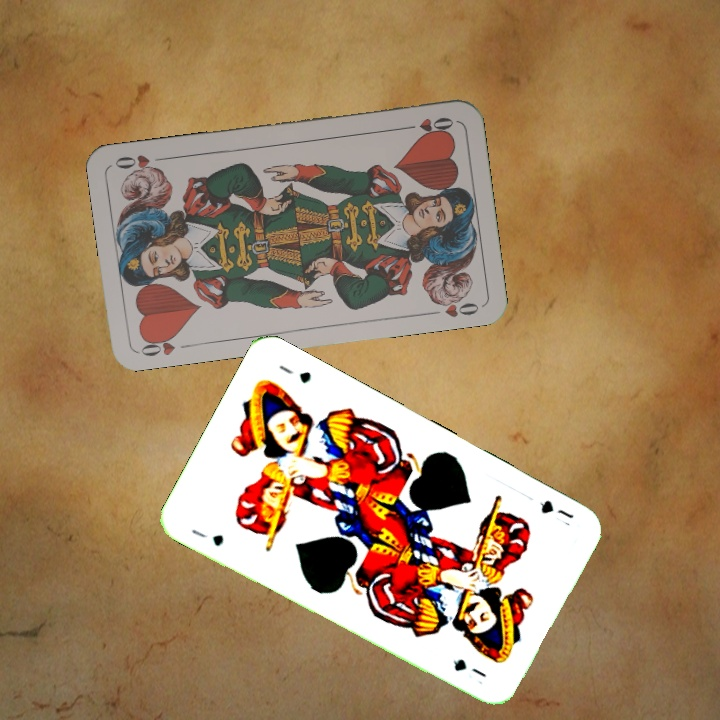GU: (536, 496, 576, 529), (187, 525, 227, 549)
HO: (398, 113, 457, 137), (136, 330, 180, 359)
